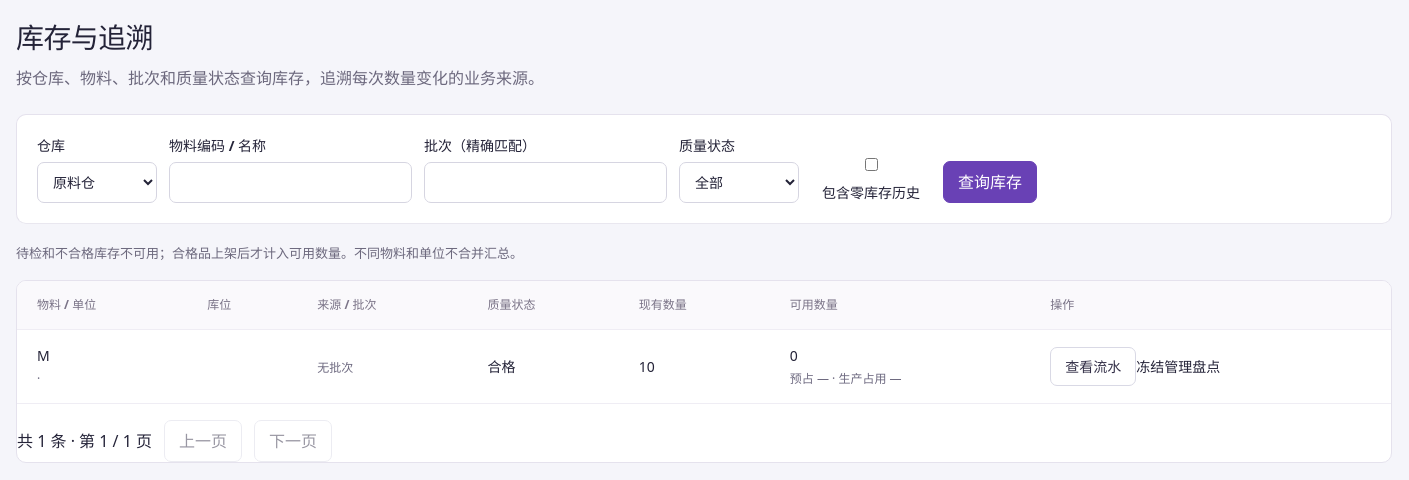
Test case: production reversal ledger must display its original transaction reference
Step 1. Click the button "查看流水" → (1093, 366), box [1050,346,1136,386]
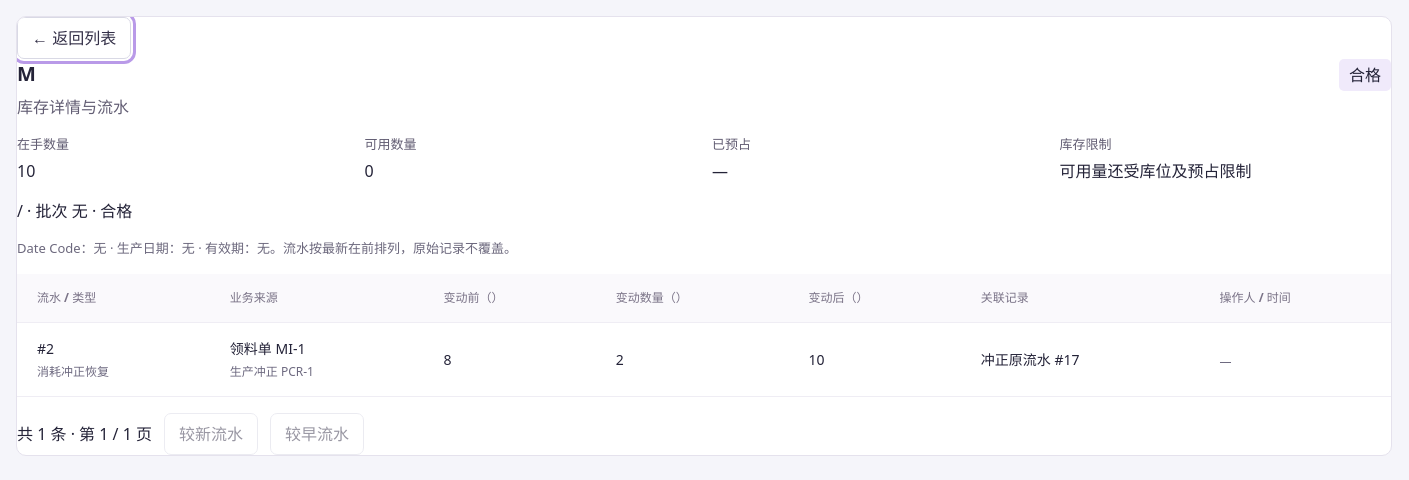
Expected: the text "冲正原流水 #17" is shown, [981,350,1080,369]
Expected: the text "生产冲正 PCR-1" is shown, [230,363,314,380]
Expected: the text "领料单 MI-1" is shown, [230,339,305,358]
